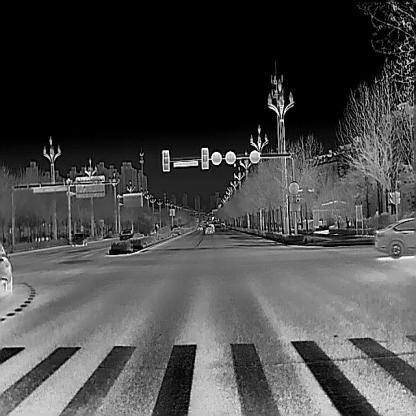car: (373, 216, 416, 259), (0, 243, 12, 296), (72, 231, 87, 245), (119, 228, 133, 240), (205, 225, 213, 234), (219, 223, 225, 229), (197, 224, 202, 230)
